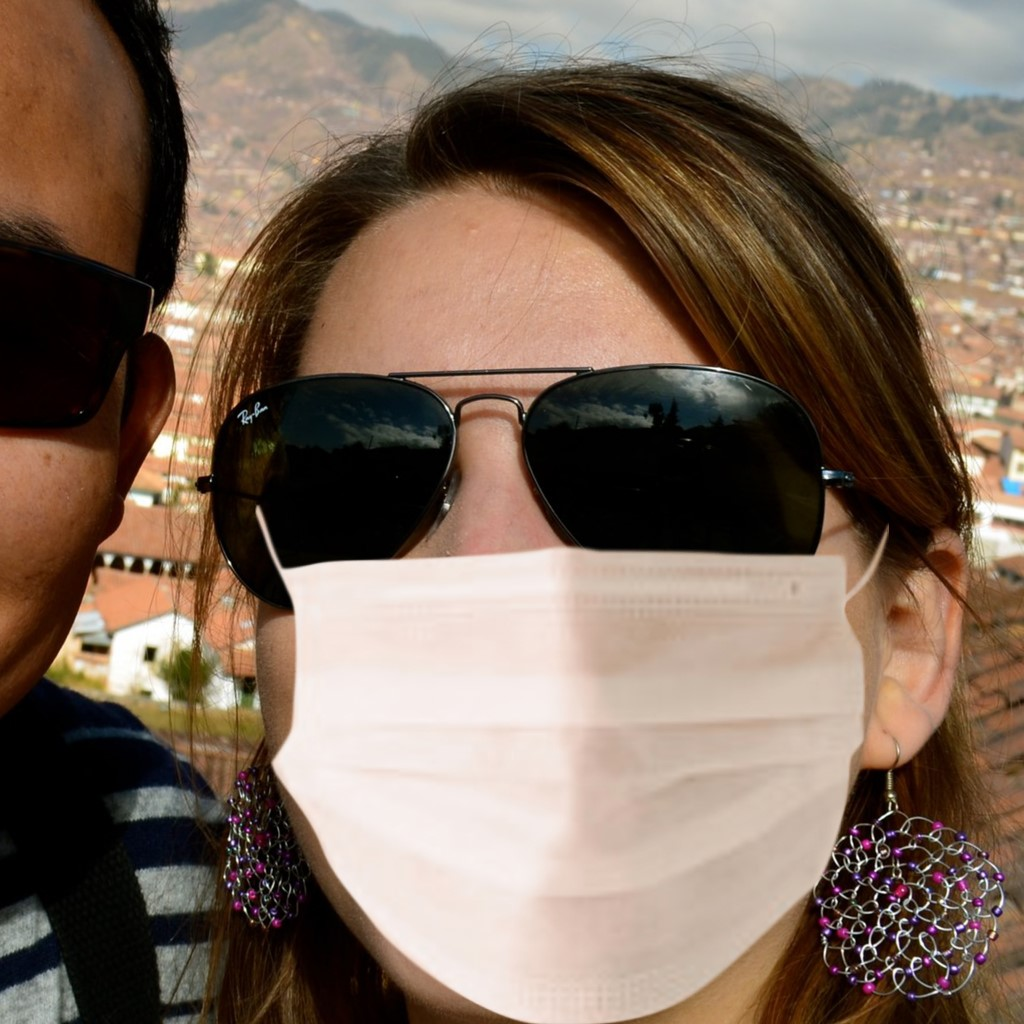con_mascara: (244, 177, 906, 990)
